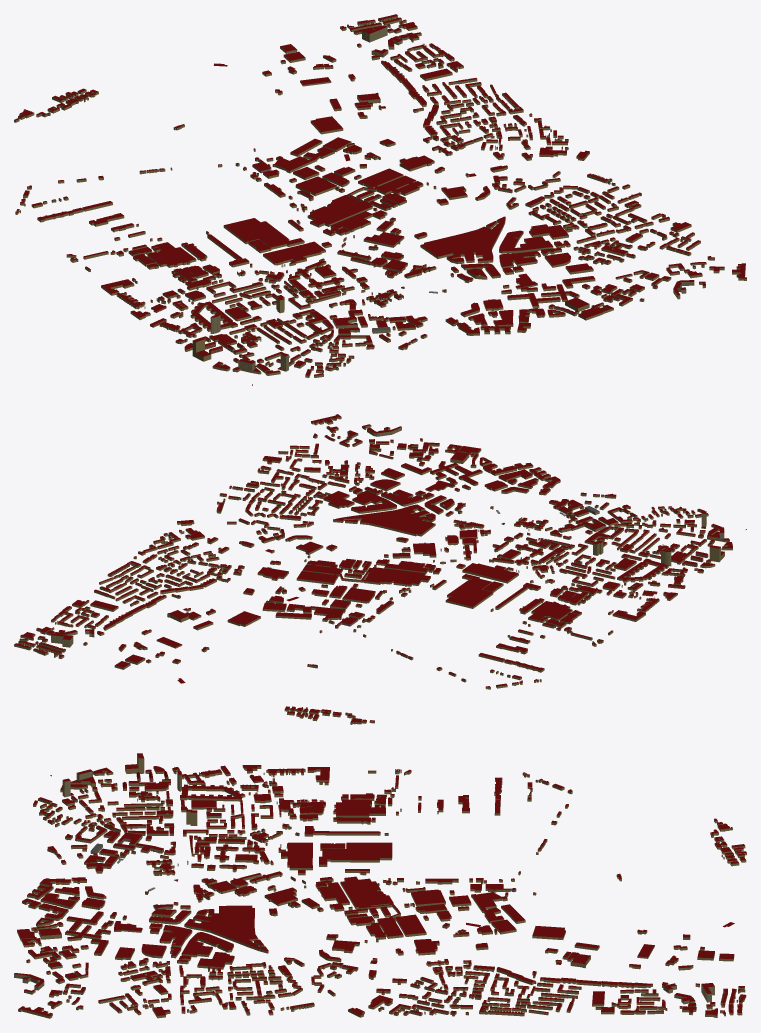
3 views of the same model, one above another, from view 1: azimuth 30°, elevation 25°; view 2: azimuth 150°, elevation 25°; view 3: azimuth 270°, elevation 25° (orthographic). The views are drawn at different scales.
Visible parts, largest first — view 1: Building Cascades Shopping Centre, Building1335, Building1417, Building1336, Building1426, Building1436, Building2, Building3; view 2: Building Cascades Shopping Centre, Building1335, Building1417, Building1426, Building1336, Building1436, Building2; view 3: Building Cascades Shopping Centre, Building1335, Building1417, Building1426, Building2, Building1336, Building1436, Building3, Building4, Building1427, Building570, Building1510 (+1 smaller).
Part boxes in pixels (x1=…): Building Cascades Shopping Centre: x1=420, y1=226, x2=500, y2=258; Building1335: x1=223, y1=218, x2=304, y2=249; Building1417: x1=307, y1=195, x2=372, y2=227; Building1336: x1=263, y1=241, x2=325, y2=265; Building1426: x1=499, y1=230, x2=553, y2=253; Building1436: x1=147, y1=243, x2=196, y2=267; Building2: x1=190, y1=301, x2=237, y2=331; Building3: x1=374, y1=175, x2=423, y2=195; Building Cascades Shopping Centre: x1=359, y1=508, x2=435, y2=536; Building1335: x1=445, y1=574, x2=493, y2=608; Building1417: x1=364, y1=567, x2=430, y2=586; Building1426: x1=351, y1=491, x2=396, y2=513; Building1336: x1=462, y1=563, x2=518, y2=583; Building1436: x1=530, y1=601, x2=572, y2=622; Building2: x1=617, y1=558, x2=668, y2=582; Building Cascades Shopping Centre: x1=202, y1=905, x2=258, y2=944; Building1335: x1=319, y1=842, x2=392, y2=866; Building1417: x1=340, y1=876, x2=393, y2=909; Building1426: x1=181, y1=932, x2=233, y2=957; Building2: x1=180, y1=784, x2=245, y2=801; Building1336: x1=281, y1=842, x2=312, y2=870; Building1436: x1=333, y1=799, x2=385, y2=817; Building3: x1=366, y1=917, x2=403, y2=939; Building4: x1=317, y1=882, x2=349, y2=911; Building1427: x1=159, y1=925, x2=192, y2=947; Building570: x1=395, y1=914, x2=426, y2=936; Building1510: x1=411, y1=889, x2=445, y2=906.
Size of the model in its own units: 1729 by 52.5 by 2128.
